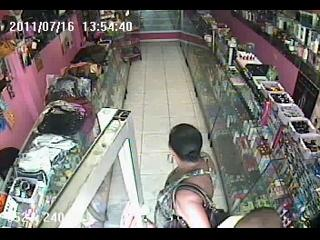Normal: (154, 122, 216, 228)
